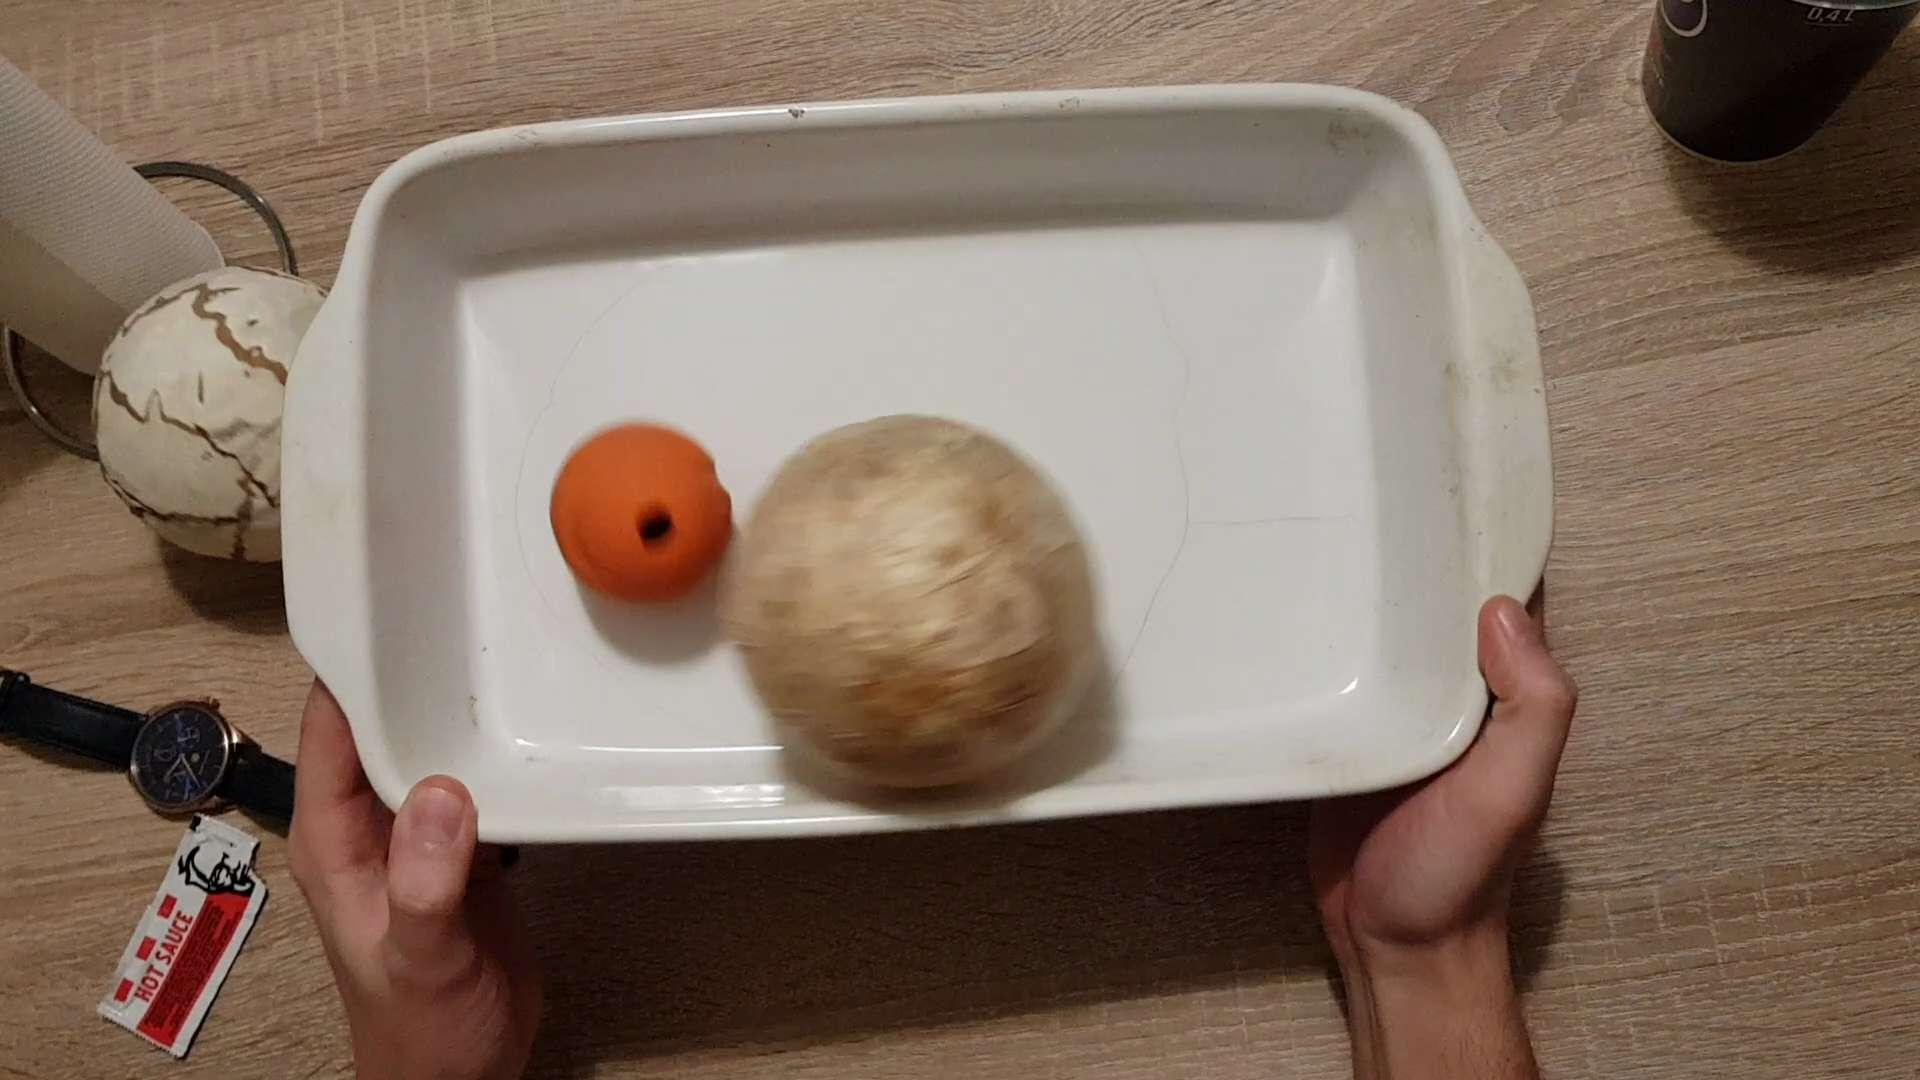Sphere: (716, 415, 1096, 804), (80, 270, 363, 571)
sphere: (537, 415, 742, 603)
